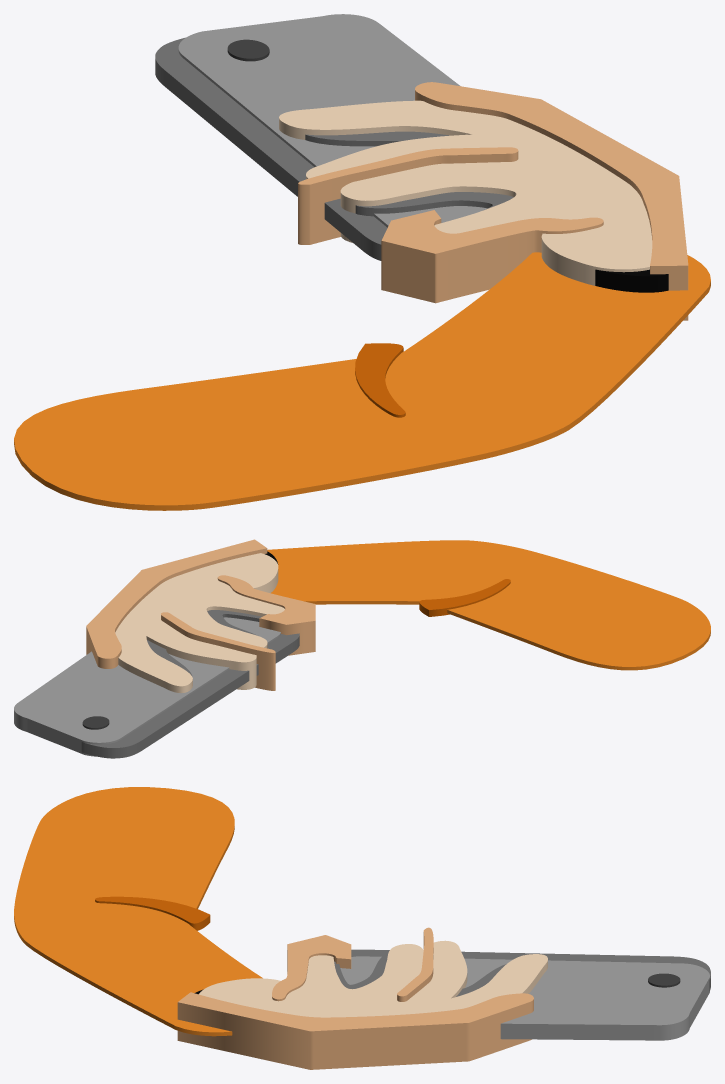
The model's file is emoji_u1f933_1f3fb.glb.
The picture shows the model from 3 angles, top to bottom: view 1: azimuth 30°, elevation 25°; view 2: azimuth 150°, elevation 25°; view 3: azimuth 270°, elevation 25°; orthographic projection. The views are drawn at different scales.
Visible parts, largest first — view 1: emoji_u1f933_1f3fb; view 2: emoji_u1f933_1f3fb; view 3: emoji_u1f933_1f3fb.
Part boxes in pixels (left/top/right/bottom): emoji_u1f933_1f3fb: left=14, top=14, right=710, bottom=510; emoji_u1f933_1f3fb: left=14, top=539, right=710, bottom=758; emoji_u1f933_1f3fb: left=14, top=787, right=710, bottom=1069.
Size of the model in its own units: 0.0291 by 0.0022 by 0.0327.
